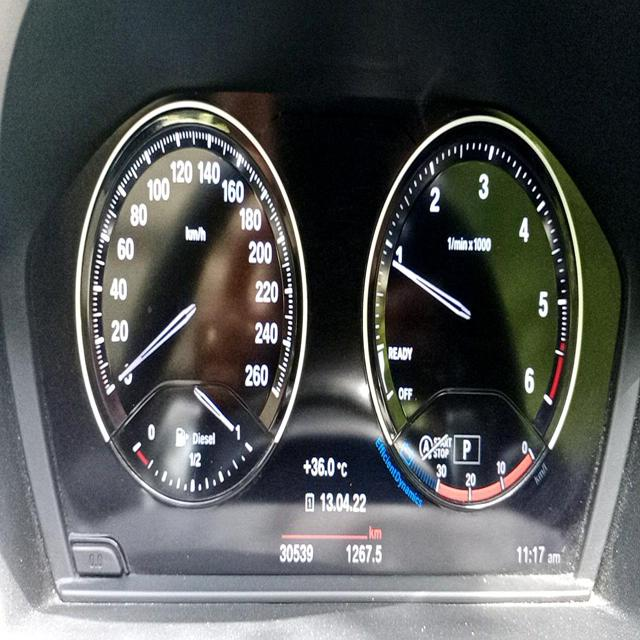odometer: (277, 541, 314, 566)
